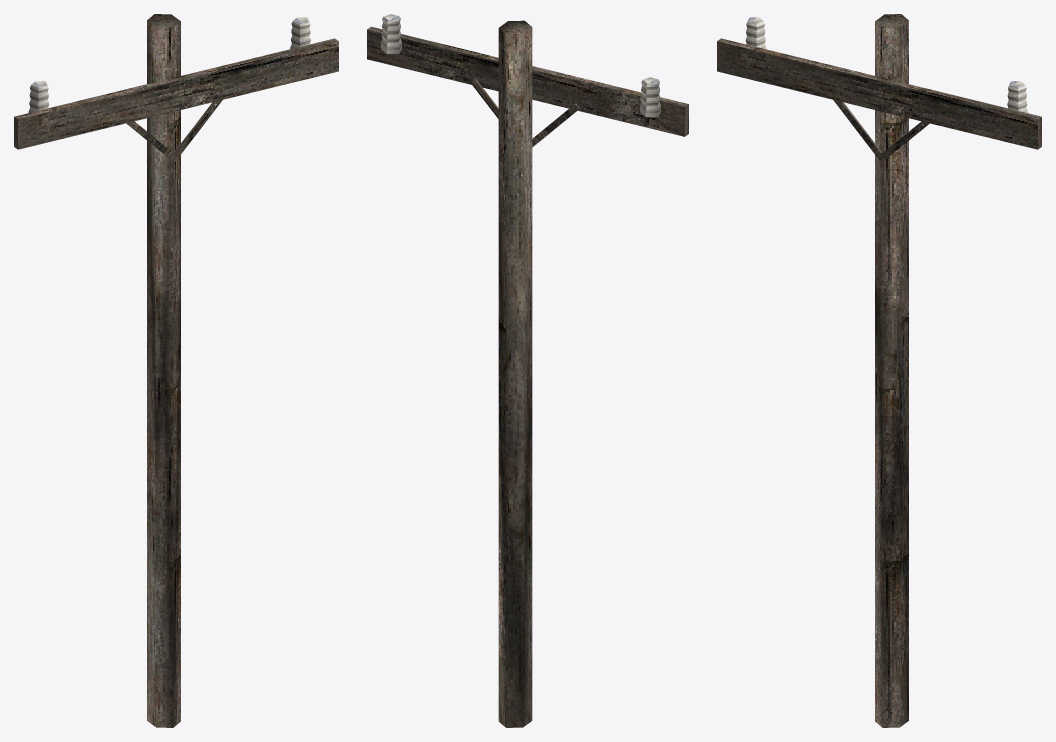
Rendered from psx_electric_pole.glb.
The picture shows the model from 3 angles, left to right: view 1: azimuth 30°, elevation 25°; view 2: azimuth 150°, elevation 25°; view 3: azimuth 330°, elevation 25°; orthographic projection.
Visible parts, largest first — view 1: Pole; view 2: Pole; view 3: Pole.
Part boxes in pixels (x1=…): Pole: x1=14, y1=14, x2=338, y2=727; Pole: x1=367, y1=14, x2=688, y2=727; Pole: x1=717, y1=14, x2=1041, y2=727.
Bounding box in the file's own units: 12.26 × 25.58 × 1.59.
Materials: 1 (1 with a texture image).
